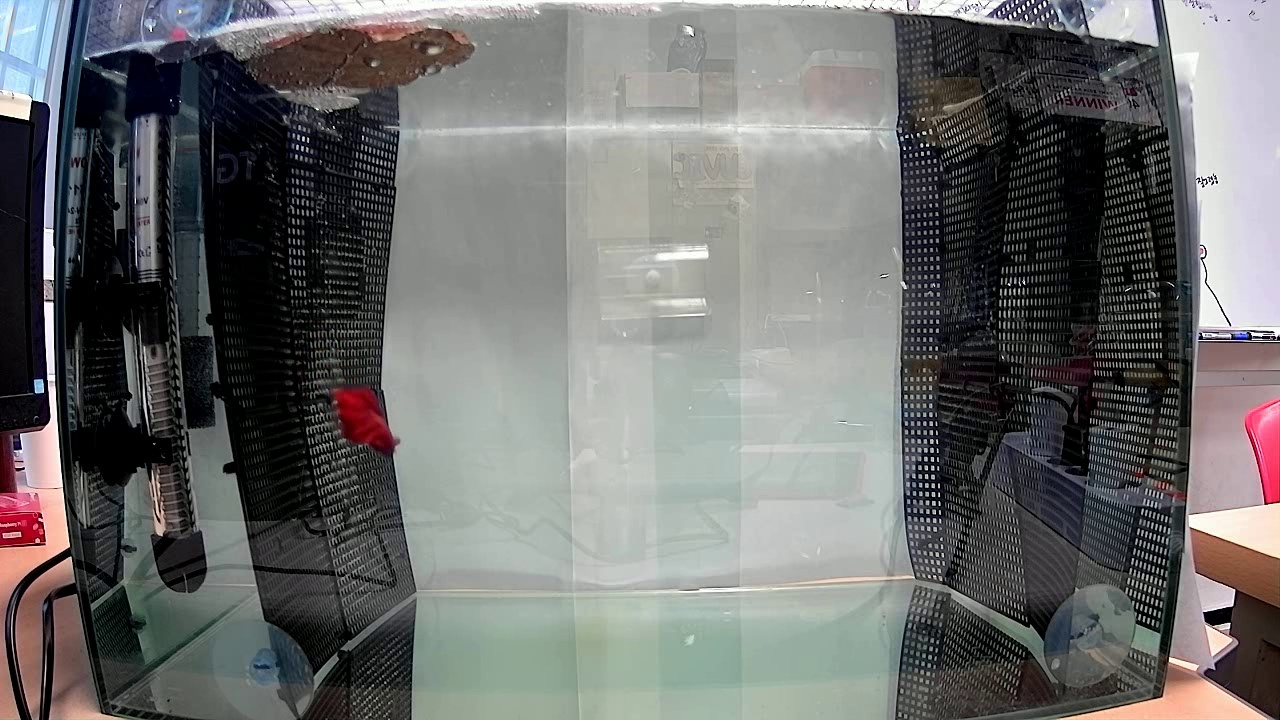fish: (319, 375, 405, 458)
